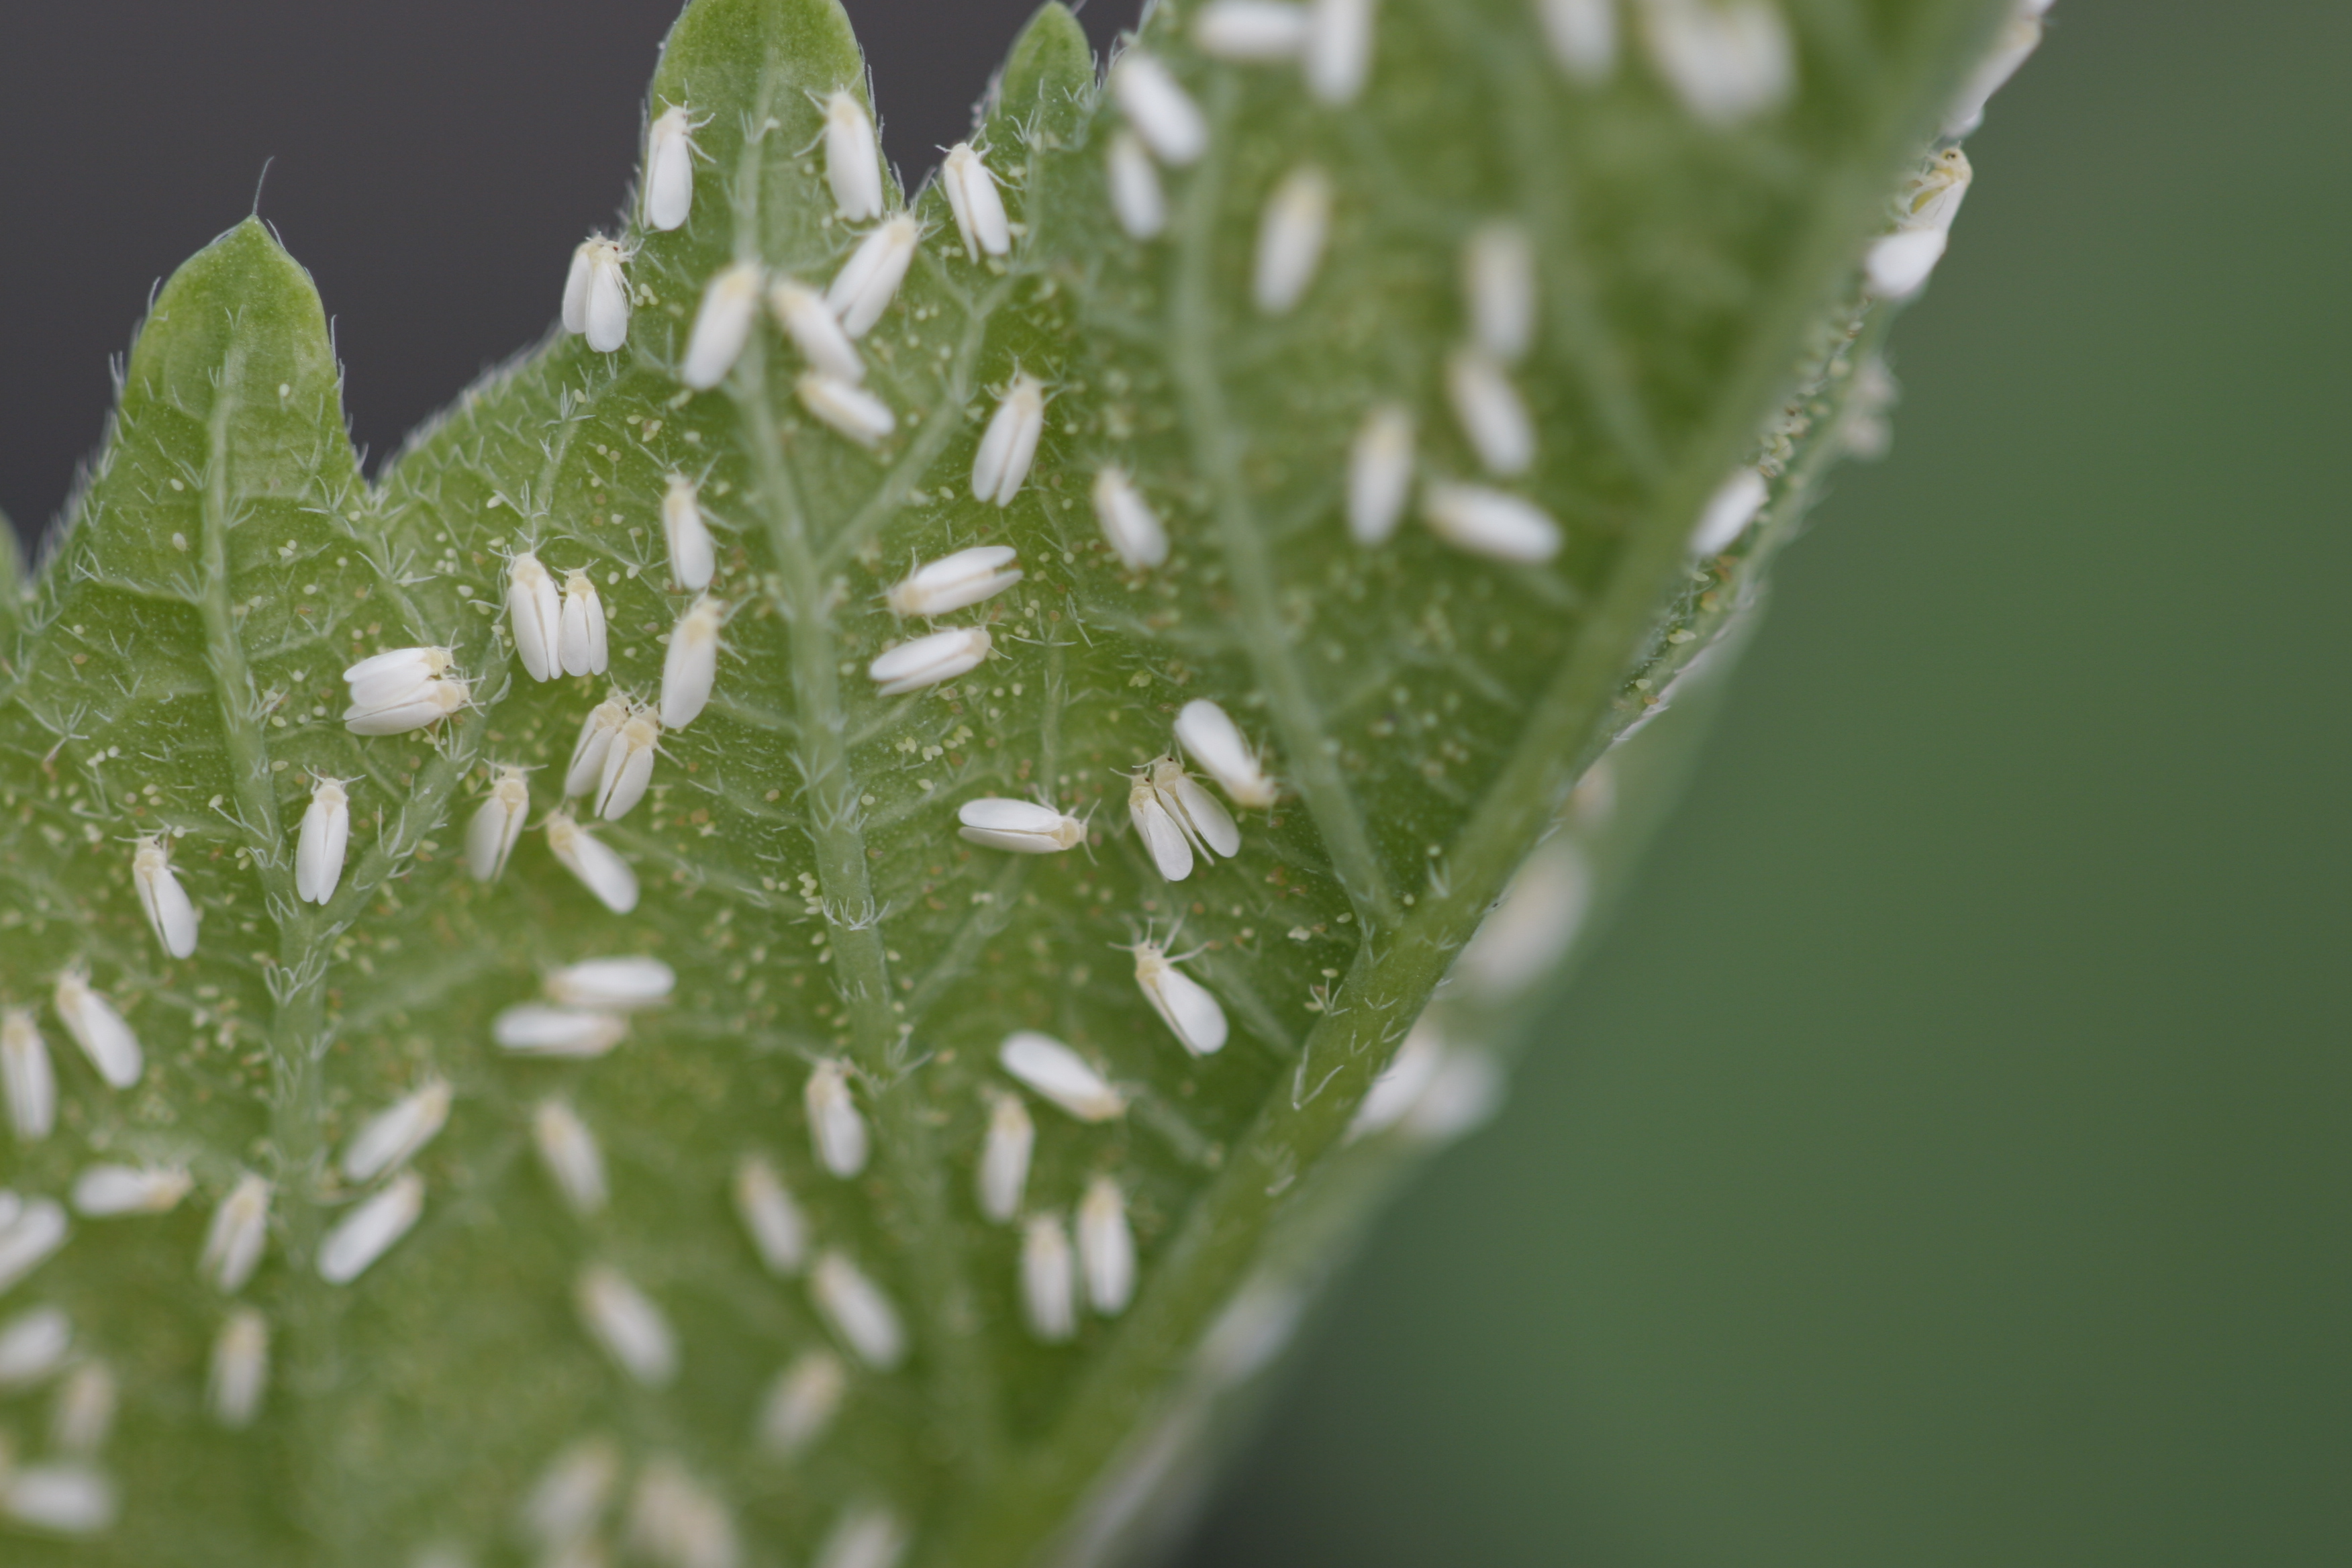Tobacco Whitefly: (246, 773, 411, 918), (342, 595, 477, 768), (923, 771, 1098, 899), (1114, 928, 1251, 1088), (957, 357, 1042, 528), (561, 218, 636, 386), (871, 626, 1018, 701)
